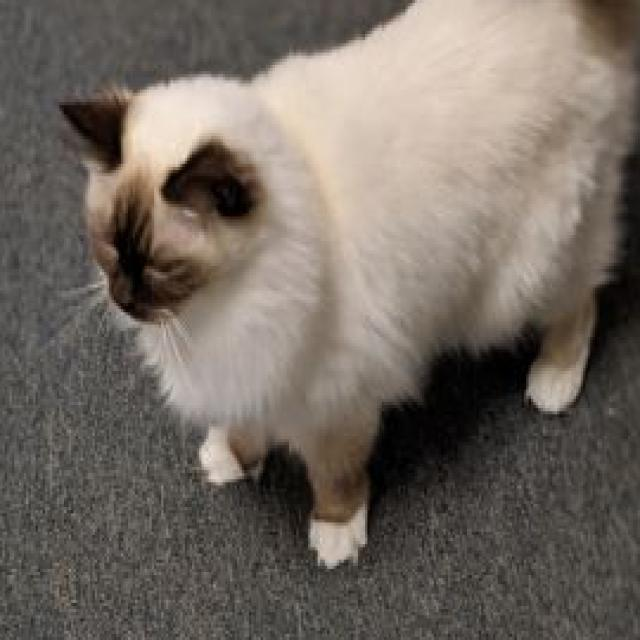Birman: (50, 0, 640, 572)
